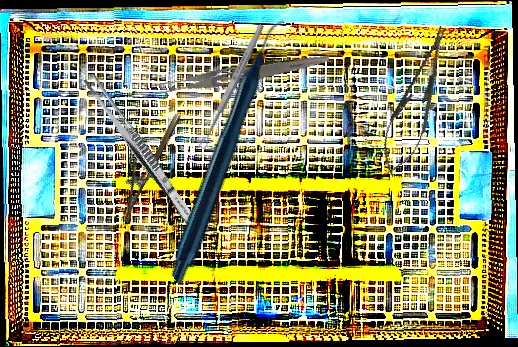Dressing Forceps: (80, 72, 202, 230), (149, 47, 331, 100)
Handpiece: (87, 18, 374, 286)
Needle Holder: (372, 20, 462, 181), (107, 106, 182, 223)
Surgical Spoon: (197, 22, 266, 151)
